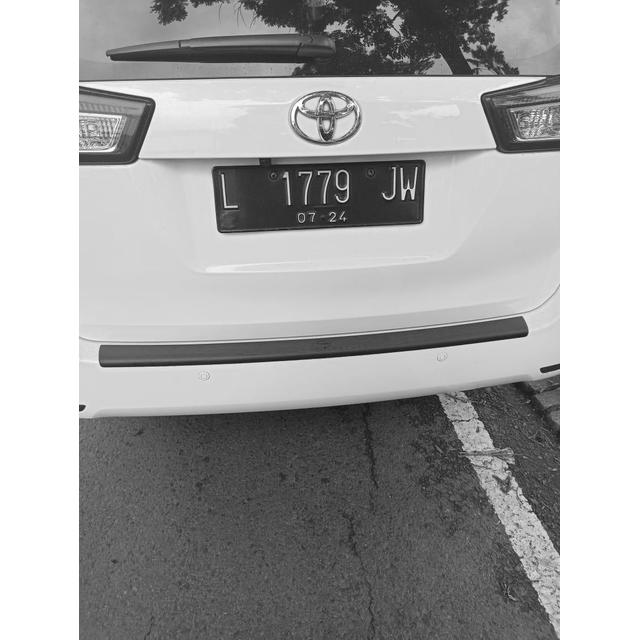license: (218, 163, 421, 228)
